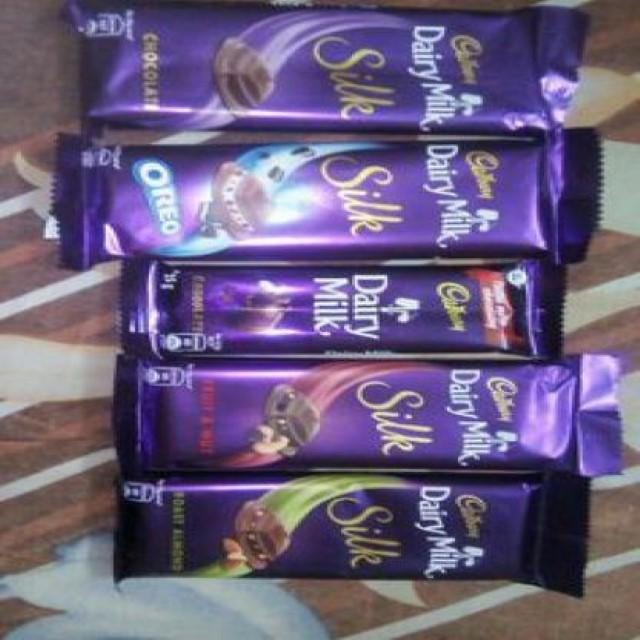cadbury_chocolate: (70, 477, 638, 593), (75, 2, 568, 126), (88, 355, 605, 473), (54, 142, 574, 248), (112, 267, 585, 355)
